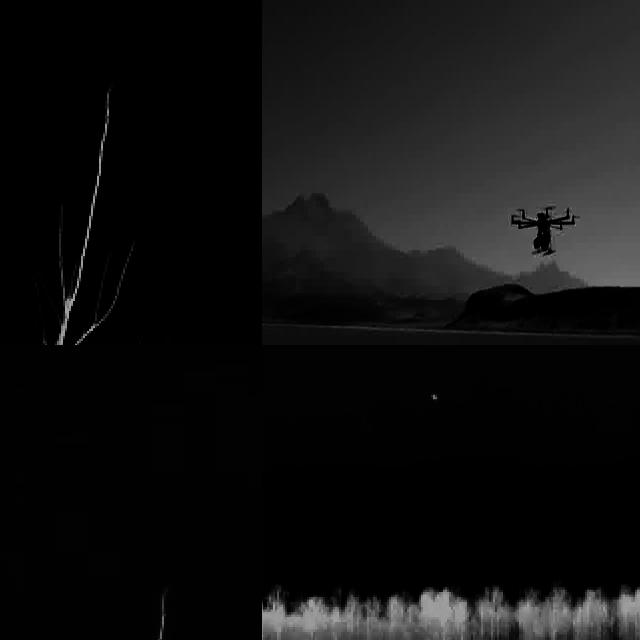1: (424, 385, 454, 417)
drone: (512, 201, 578, 261)
